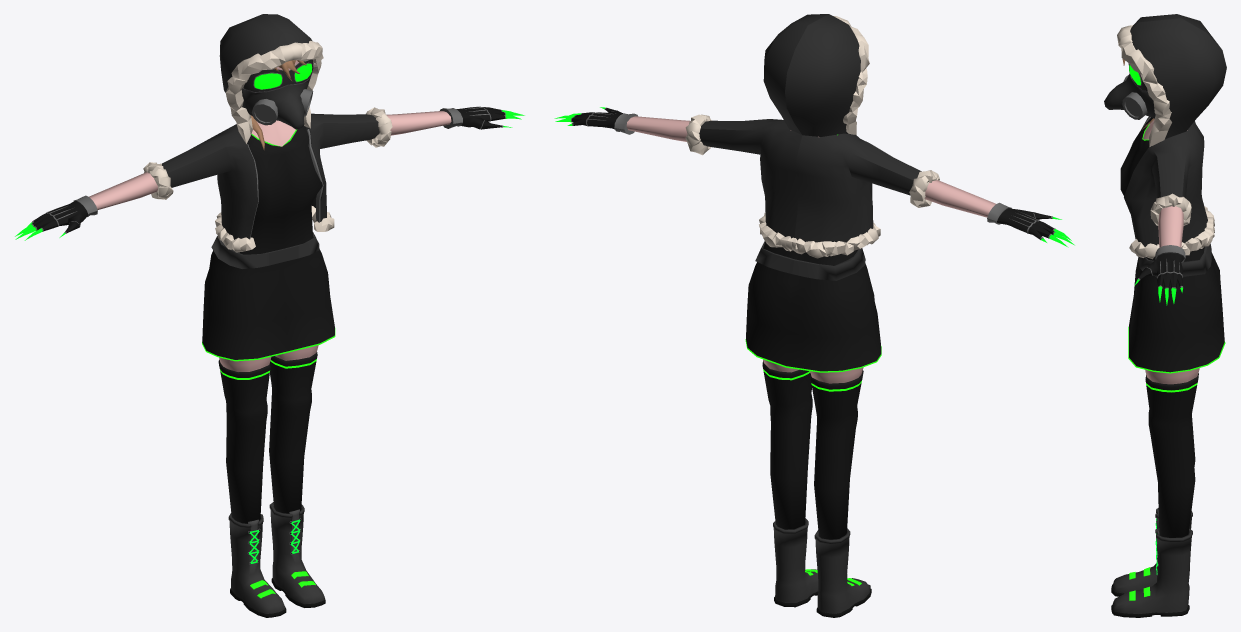
Rendered from Mires-Character.fbx.
3 views of the same model, side by side, from view 1: azimuth 30°, elevation 25°; view 2: azimuth 150°, elevation 25°; view 3: azimuth 270°, elevation 25° (orthographic). The views are drawn at different scales.
Parts seen in each view (by area): view 1: Dress, Jacket, Stockings, Boots, 3DS-Max Body, Gloves, Mask, Belt, Gas, Lens; view 2: Jacket, Dress, Stockings, Boots, 3DS-Max Body, Gloves, Belt; view 3: Jacket, Dress, Stockings, Boots, 3DS-Max Body, Gloves, Mask, Belt, Gas.
Part boxes in pixels (x1=…): Dress: x1=202, y1=126, x2=335, y2=361; Jacket: x1=143, y1=14, x2=392, y2=252; Stockings: x1=218, y1=352, x2=317, y2=523; Boots: x1=228, y1=502, x2=325, y2=617; 3DS-Max Body: x1=89, y1=111, x2=451, y2=371; Gloves: x1=15, y1=106, x2=524, y2=240; Mask: x1=242, y1=72, x2=312, y2=129; Belt: x1=211, y1=232, x2=319, y2=268; Gas: x1=251, y1=89, x2=313, y2=125; Lens: x1=253, y1=62, x2=312, y2=89; Jacket: x1=685, y1=14, x2=939, y2=258; Dress: x1=745, y1=134, x2=881, y2=372; Stockings: x1=762, y1=361, x2=863, y2=539; Boots: x1=773, y1=518, x2=871, y2=617; 3DS-Max Body: x1=626, y1=116, x2=995, y2=383; Gloves: x1=554, y1=107, x2=1074, y2=247; Belt: x1=755, y1=241, x2=865, y2=280; Jacket: x1=1117, y1=14, x2=1226, y2=259; Dress: x1=1120, y1=117, x2=1225, y2=373; Stockings: x1=1145, y1=373, x2=1198, y2=537; Boots: x1=1111, y1=508, x2=1192, y2=617; 3DS-Max Body: x1=1143, y1=119, x2=1199, y2=384; Gloves: x1=1134, y1=245, x2=1185, y2=305; Mask: x1=1104, y1=74, x2=1155, y2=118; Belt: x1=1138, y1=244, x2=1211, y2=276; Gas: x1=1122, y1=75, x2=1147, y2=119.
Bounding box in the file's own units: 149 × 159 × 30.4.
